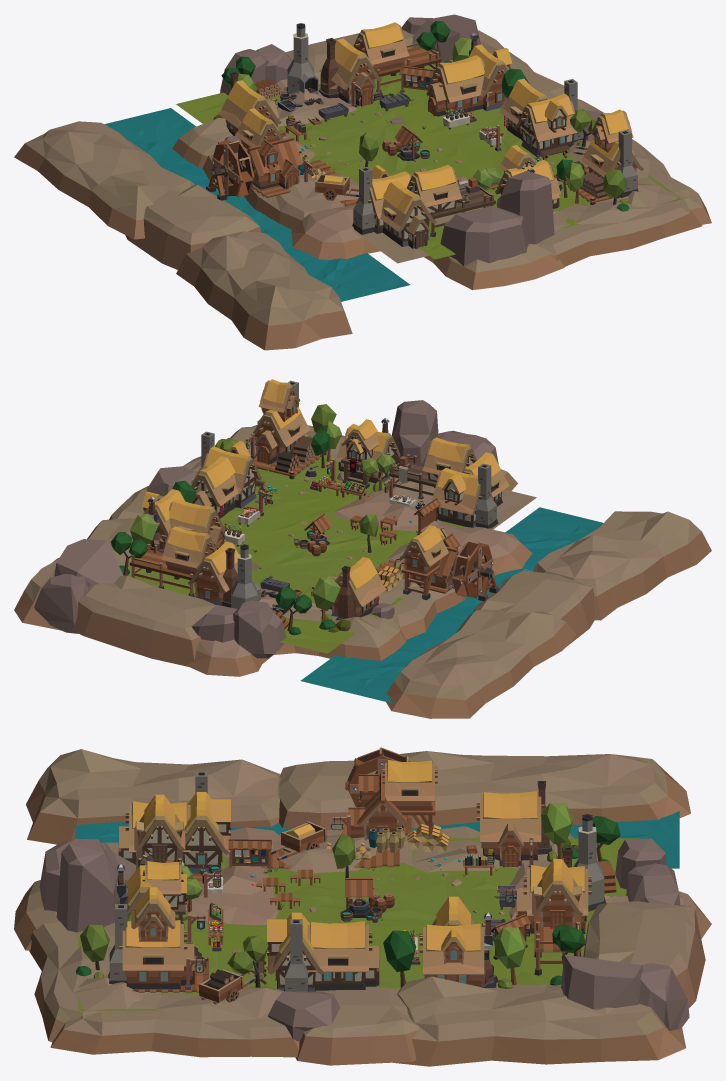
The model's file is Market.glb.
3 renders of one model, top to bottom at view 1: azimuth 30°, elevation 25°; view 2: azimuth 150°, elevation 25°; view 3: azimuth 270°, elevation 25°, orthographic. The views are drawn at different scales.
Visible parts, largest first — view 1: TB_Env_Mound_Big_C (3), TB_Env_Mound_Big_C (2), TB_Env_Mound_Big_C (4), TB_Env_Mound_Corner_C (2), TB_Env_Mound_Small_C, TB_Env_Tile_Grass_B (4), TB_Bd_SWHouse (×3), TB_Env_Rock1_D (6), TB_Bd_House (×3), TB_Env_Tile_Grass_B (1), TB_Env_Tile_Grass_B, TB_Env_Tile_Water_A (1) (+33 smaller); view 2: TB_Env_Mound_Big_C (2), TB_Env_Mound_Big_C (3), TB_Env_Mound_Small_C (2), TB_Env_Mound_Corner_C (1), TB_Env_Tile_Grass_B (4), TB_Env_Mound_Corner_C (2), TB_Env_Tile_Grass_B (1), TB_Env_Mound_Small_C, TB_Bd_House (×3), TB_Bd_SWHouse (×3), TB_Env_Tile_Water_A (1), TB_Bd_SWRoom_Big_Open (×2) (+35 smaller); view 3: TB_Env_Mound_Big_C (6), TB_Env_Mound_Big_C (2), TB_Env_Mound_Big_C (3), TB_Env_Mound_Big_C (5), TB_Env_Mound_Small_C (2), TB_Bd_SWHouse (×3), TB_Env_Tile_Grass_B (1), TB_Env_Mound_Small_C (1), TB_Env_Mound_Big_C (4), TB_Env_Mound_Corner_C (2), TB_Bd_SWRoom_Big_Open (×2), TB_Env_Rock1_D (5) (+42 smaller).
Boxes of the visible parts, <box> form: TB_Env_Mound_Big_C (3): <box>176,231,352,350</box>; TB_Env_Mound_Big_C (2): <box>14,121,194,239</box>; TB_Env_Mound_Big_C (4): <box>538,183,702,266</box>; TB_Env_Mound_Corner_C (2): <box>291,176,564,290</box>; TB_Env_Mound_Small_C: <box>125,184,261,269</box>; TB_Env_Tile_Grass_B (4): <box>398,108,585,191</box>; TB_Bd_SWHouse (×3): <box>218,38,508,139</box>; TB_Env_Rock1_D (6): <box>440,206,528,266</box>; TB_Bd_House (×3): <box>356,93,578,233</box>; TB_Env_Tile_Grass_B (1): <box>306,125,488,206</box>; TB_Env_Tile_Grass_B: <box>176,86,410,146</box>; TB_Env_Tile_Water_A (1): <box>104,108,207,181</box>; TB_Env_Mound_Big_C (2): <box>386,609,576,718</box>; TB_Env_Mound_Big_C (3): <box>533,511,711,620</box>; TB_Env_Mound_Small_C (2): <box>72,575,215,666</box>; TB_Env_Mound_Corner_C (1): <box>186,588,406,676</box>; TB_Env_Tile_Grass_B (4): <box>220,475,349,563</box>; TB_Env_Mound_Corner_C (2): <box>332,469,532,575</box>; TB_Env_Tile_Grass_B (1): <box>260,497,465,577</box>; TB_Env_Mound_Small_C: <box>473,570,595,647</box>; TB_Bd_House (×3): <box>202,423,494,527</box>; TB_Bd_SWHouse (×3): <box>144,489,386,617</box>; TB_Env_Tile_Water_A (1): <box>300,633,447,703</box>; TB_Bd_SWRoom_Big_Open (×2): <box>161,525,448,575</box>; TB_Env_Mound_Big_C (6): <box>393,976,685,1066</box>; TB_Env_Mound_Big_C (2): <box>400,751,690,825</box>; TB_Env_Mound_Big_C (3): <box>26,749,280,844</box>; TB_Env_Mound_Big_C (5): <box>50,977,299,1057</box>; TB_Env_Mound_Small_C (2): <box>583,901,705,1008</box>; TB_Bd_SWHouse (×3): <box>419,791,591,986</box>; TB_Env_Tile_Grass_B (1): <box>221,851,446,926</box>; TB_Env_Mound_Small_C (1): <box>295,987,418,1065</box>; TB_Env_Mound_Big_C (4): <box>29,919,144,1042</box>; TB_Env_Mound_Corner_C (2): <box>14,827,278,950</box>; TB_Bd_SWRoom_Big_Open (×2): <box>382,759,583,927</box>; TB_Env_Rock1_D (5): <box>56,838,119,932</box>.
Bounding box in the file's own units: 60.4 × 13.12 × 60.78.
3 materials, 3 textured.
